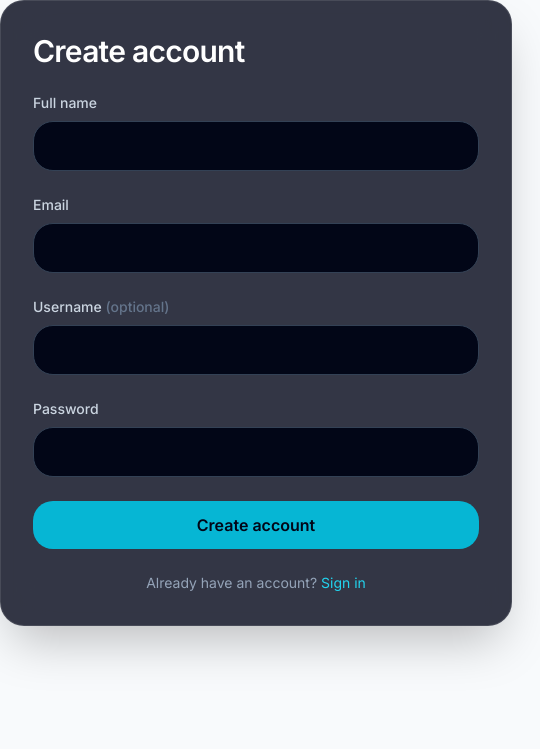
Test: RegisterForm › displays error message on registration failure
In the field labelled "Email": (256, 248) x1=33 y1=223 x2=479 y2=273, type "test@example.com"
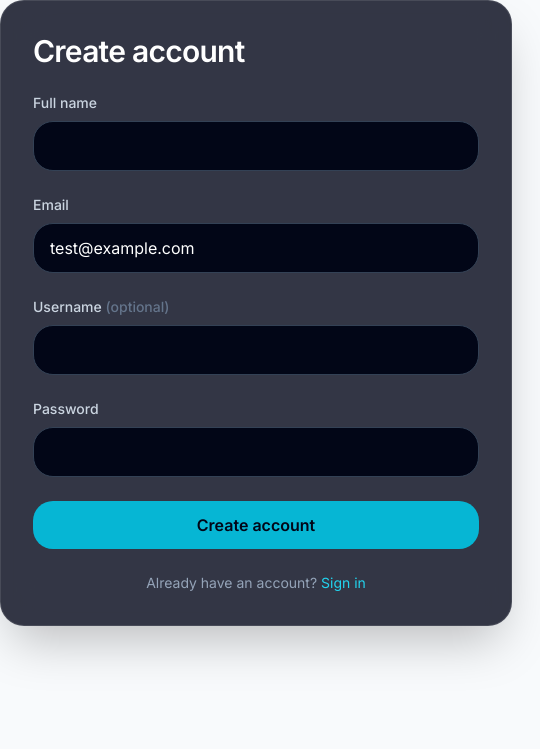
In the password field labelled "Password": (256, 452) x1=33 y1=427 x2=479 y2=477, type "Password123!"
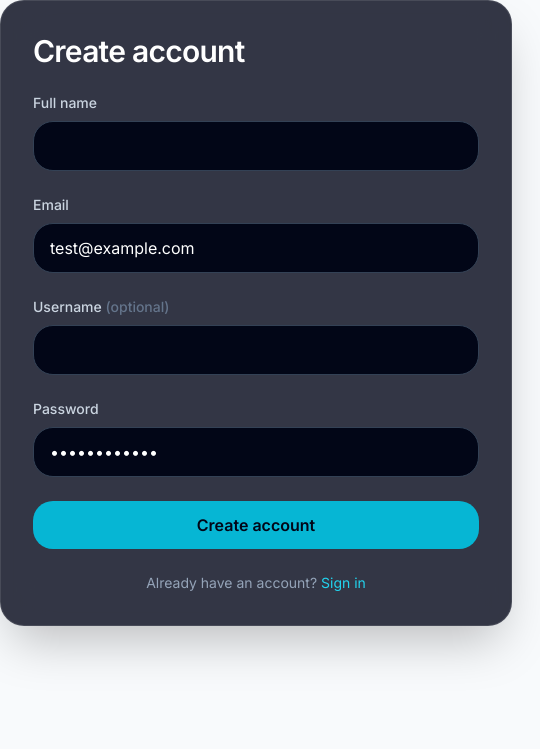
Click the button "Create account": (256, 525) x1=33 y1=501 x2=479 y2=549
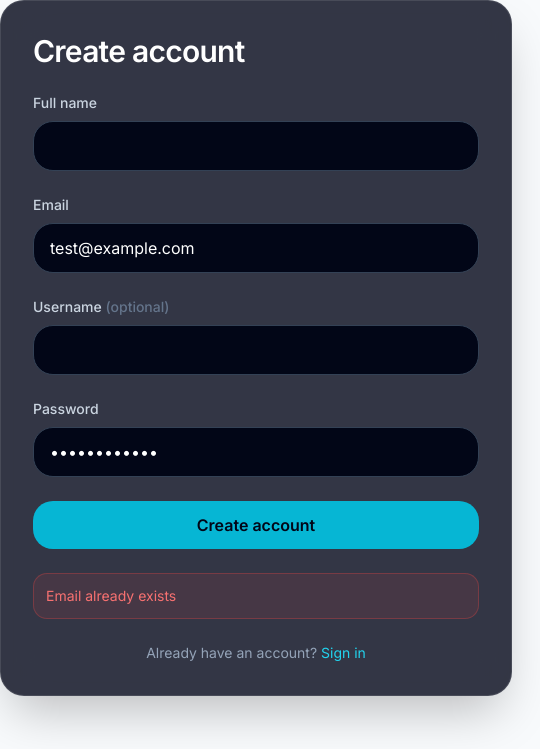
Expected: the text "Email already exists" is shown, x1=46 y1=587 x2=176 y2=604
